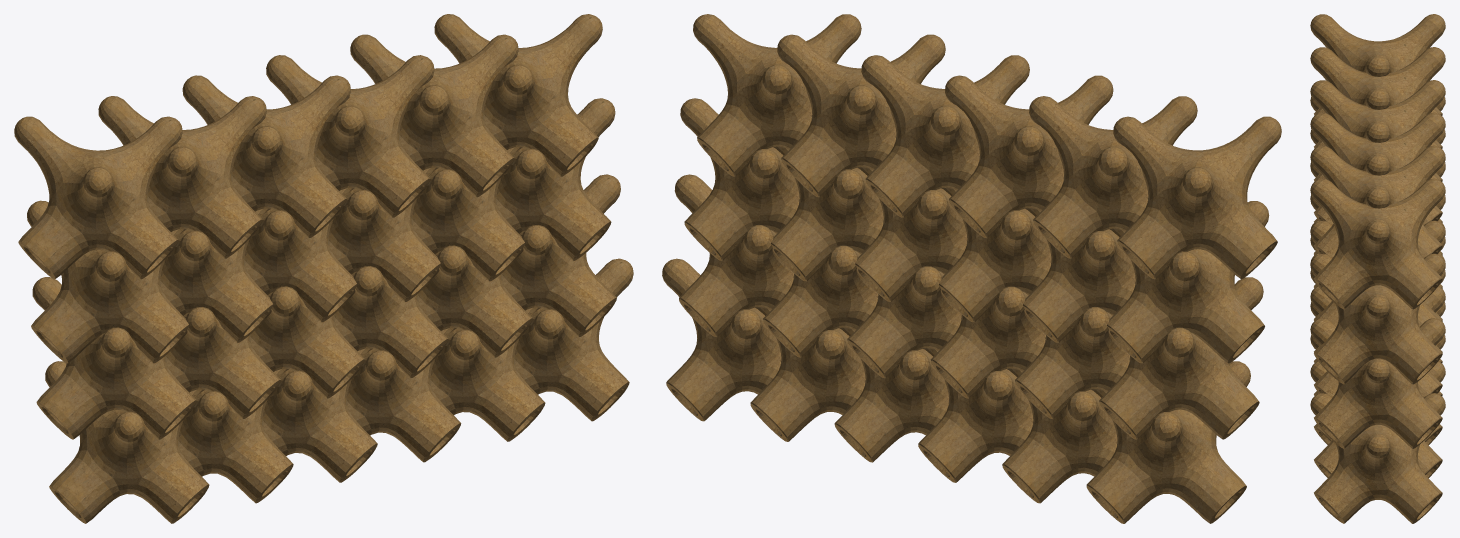
File: wallWithPlants.glb
3 renders of one model, left to right at view 1: azimuth 30°, elevation 25°; view 2: azimuth 150°, elevation 25°; view 3: azimuth 270°, elevation 25°, orthographic. The views are drawn at different scales.
Visible parts, largest first — view 1: Retopo_object_0_brick-foundation-1.016, Retopo_object_0_brick-foundation-1.014, Retopo_object_0_brick-foundation-1.013, Retopo_object_0_brick-foundation-1.017, Retopo_object_0_brick-foundation-1.018, Retopo_object_0_brick-foundation-1.015, Retopo_object_0_brick-foundation-1.004, Retopo_object_0_brick-foundation-1.021, Retopo_object_0_brick-foundation-1.009, Retopo_object_0_brick-foundation-1.002, Retopo_object_0_brick-foundation-1.023, Retopo_object_0_brick-foundation-1.011 (+12 smaller); view 2: Retopo_object_0_brick-foundation-1.016, Retopo_object_0_brick-foundation-1.014, Retopo_object_0_brick-foundation-1.013, Retopo_object_0_brick-foundation-1.018, Retopo_object_0_brick-foundation-1.017, Retopo_object_0_brick-foundation-1.015, Retopo_object_0_brick-foundation-1.004, Retopo_object_0_brick-foundation-1.021, Retopo_object_0_brick-foundation-1.009, Retopo_object_0_brick-foundation-1.002, Retopo_object_0_brick-foundation-1.023, Retopo_object_0_brick-foundation-1.011 (+12 smaller); view 3: Retopo_object_0_brick-foundation-1.014, Retopo_object_0_brick-foundation-1.002, Retopo_object_0_brick-foundation-1.023, Retopo_object_0_brick-foundation-1.011, Retopo_object_0_brick-foundation-1.013, Retopo_object_0_brick-foundation-1.015, Retopo_object_0_brick-foundation-1.016, Retopo_object_0_brick-foundation-1.018, Retopo_object_0_brick-foundation-1.017, Retopo_object_0_brick-foundation-1.001, Retopo_object_0_brick-foundation-1.012, Retopo_object_0_brick-foundation-1.024 (+2 smaller).
Part boxes in pixels (x1,y1,x2,y2): Retopo_object_0_brick-foundation-1.016: (14,116,182,279); Retopo_object_0_brick-foundation-1.014: (434,14,602,176); Retopo_object_0_brick-foundation-1.013: (350,34,518,197); Retopo_object_0_brick-foundation-1.017: (182,75,350,237); Retopo_object_0_brick-foundation-1.018: (98,96,266,258); Retopo_object_0_brick-foundation-1.015: (266,55,434,217); Retopo_object_0_brick-foundation-1.004: (45,361,209,523); Retopo_object_0_brick-foundation-1.021: (27,200,188,363); Retopo_object_0_brick-foundation-1.009: (32,277,196,439); Retopo_object_0_brick-foundation-1.002: (514,258,633,421); Retopo_object_0_brick-foundation-1.023: (496,98,615,260); Retopo_object_0_brick-foundation-1.011: (502,174,620,336); Retopo_object_0_brick-foundation-1.016: (1113,116,1281,279); Retopo_object_0_brick-foundation-1.014: (693,14,861,176); Retopo_object_0_brick-foundation-1.013: (777,34,945,197); Retopo_object_0_brick-foundation-1.018: (1029,96,1197,258); Retopo_object_0_brick-foundation-1.017: (945,75,1113,238); Retopo_object_0_brick-foundation-1.015: (861,55,1029,217); Retopo_object_0_brick-foundation-1.004: (1086,361,1250,523); Retopo_object_0_brick-foundation-1.021: (1107,201,1269,363); Retopo_object_0_brick-foundation-1.009: (1099,277,1263,439); Retopo_object_0_brick-foundation-1.002: (662,258,781,421); Retopo_object_0_brick-foundation-1.023: (680,98,799,260); Retopo_object_0_brick-foundation-1.011: (674,174,793,337); Retopo_object_0_brick-foundation-1.014: (1310,178,1445,309); Retopo_object_0_brick-foundation-1.002: (1310,393,1445,523); Retopo_object_0_brick-foundation-1.023: (1310,253,1445,384); Retopo_object_0_brick-foundation-1.011: (1310,318,1445,448); Retopo_object_0_brick-foundation-1.013: (1310,145,1445,257); Retopo_object_0_brick-foundation-1.015: (1310,112,1445,224); Retopo_object_0_brick-foundation-1.016: (1310,14,1445,115); Retopo_object_0_brick-foundation-1.018: (1310,47,1445,148); Retopo_object_0_brick-foundation-1.017: (1310,80,1445,181); Retopo_object_0_brick-foundation-1.001: (1310,361,1445,478); Retopo_object_0_brick-foundation-1.012: (1310,286,1445,397); Retopo_object_0_brick-foundation-1.024: (1310,220,1445,326).
Size of what is drawn, in the model's own units: 1.08 by 0.6515 by 0.26.
Materials: 24 (24 with a texture image).
